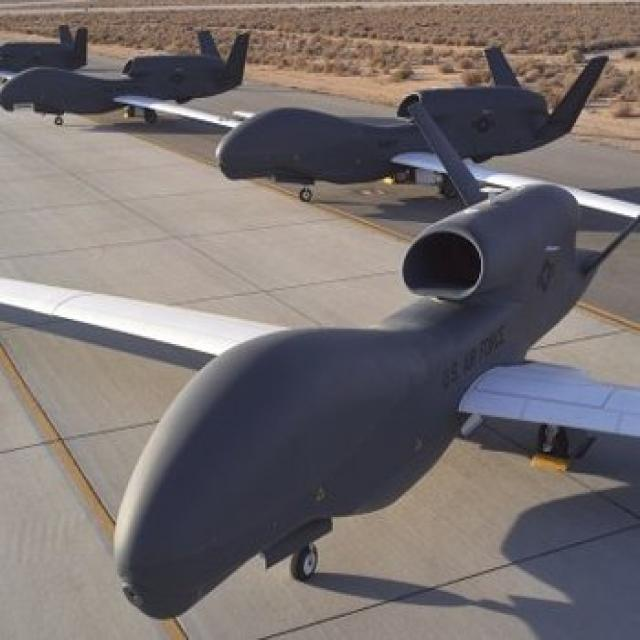plane: (2, 81, 640, 633), (216, 32, 634, 204), (6, 24, 258, 131)
